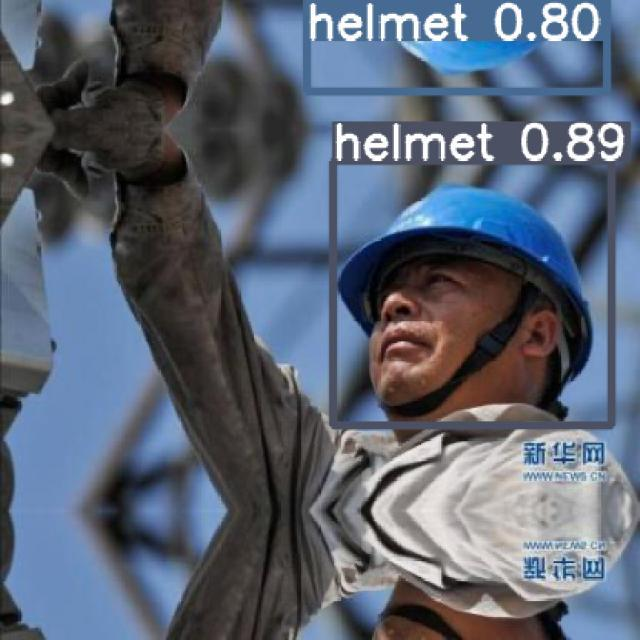Helmet: (337, 182, 593, 388)
